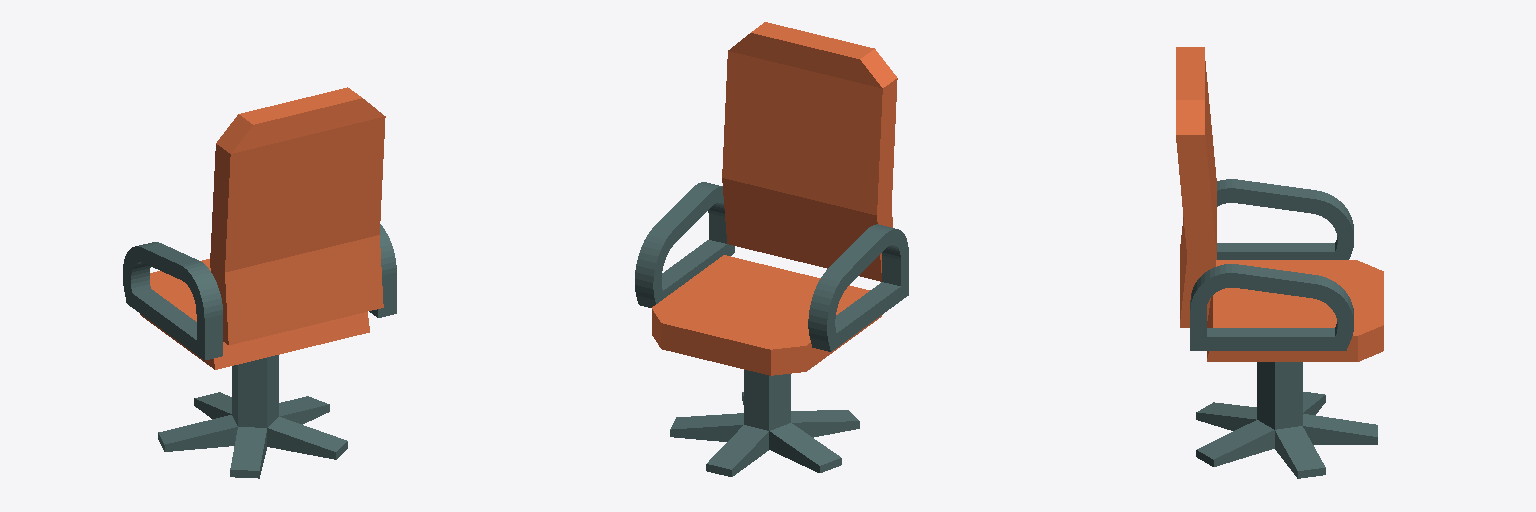
The model's file is chairDesk.obj.
3 renders of one model, left to right at view 1: azimuth 30°, elevation 25°; view 2: azimuth 150°, elevation 25°; view 3: azimuth 270°, elevation 25°, orthographic.
Parts seen in each view (by area): view 1: chair 1, chairDesk; view 2: chair 1, chairDesk; view 3: chair 1, chairDesk.
Part boxes in pixels (x1,y1,x2,y2): chair 1: (123,87,396,369); chairDesk: (158,355,347,478); chair 1: (635,22,908,375); chairDesk: (670,370,859,476); chair 1: (1176,47,1383,361); chairDesk: (1196,362,1377,478).
Size of the model in its own units: 3.35 by 6.08 by 3.14.